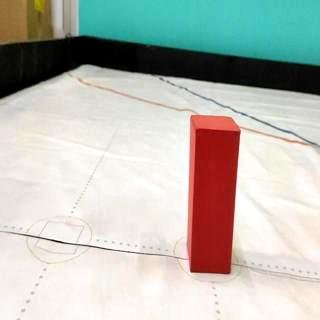redbox: (186, 114, 241, 274)
